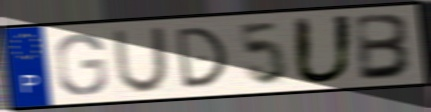5: (236, 19, 289, 88)
B: (353, 12, 416, 83)
D: (172, 24, 230, 91)
G: (52, 31, 110, 97)
U: (290, 13, 357, 87), (111, 24, 171, 95)
